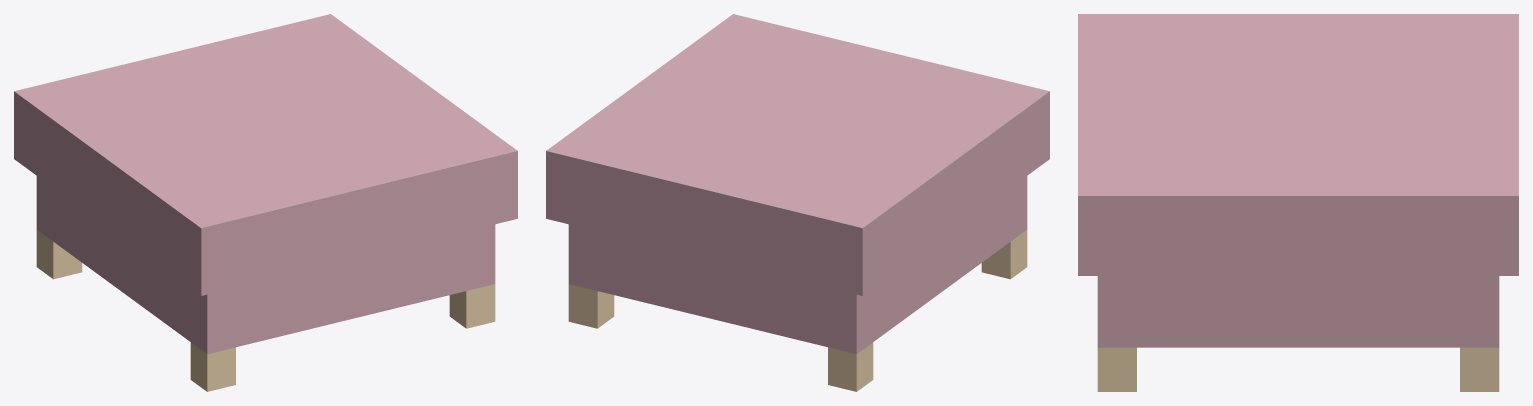
File: loungeSofaOttoman.glb
The picture shows the model from 3 angles, left to right: view 1: azimuth 30°, elevation 25°; view 2: azimuth 150°, elevation 25°; view 3: azimuth 270°, elevation 25°; orthographic projection. The views are drawn at different scales.
Visible parts, largest first — view 1: loungeSofaOttoman(Clone); view 2: loungeSofaOttoman(Clone); view 3: loungeSofaOttoman(Clone).
Part boxes in pixels (box(x1,y1,x2,y2)): loungeSofaOttoman(Clone): box(14, 14, 517, 391); loungeSofaOttoman(Clone): box(546, 14, 1049, 391); loungeSofaOttoman(Clone): box(1078, 14, 1518, 391).
Size of the model in its own units: 0.4398 by 0.23 by 0.45.
